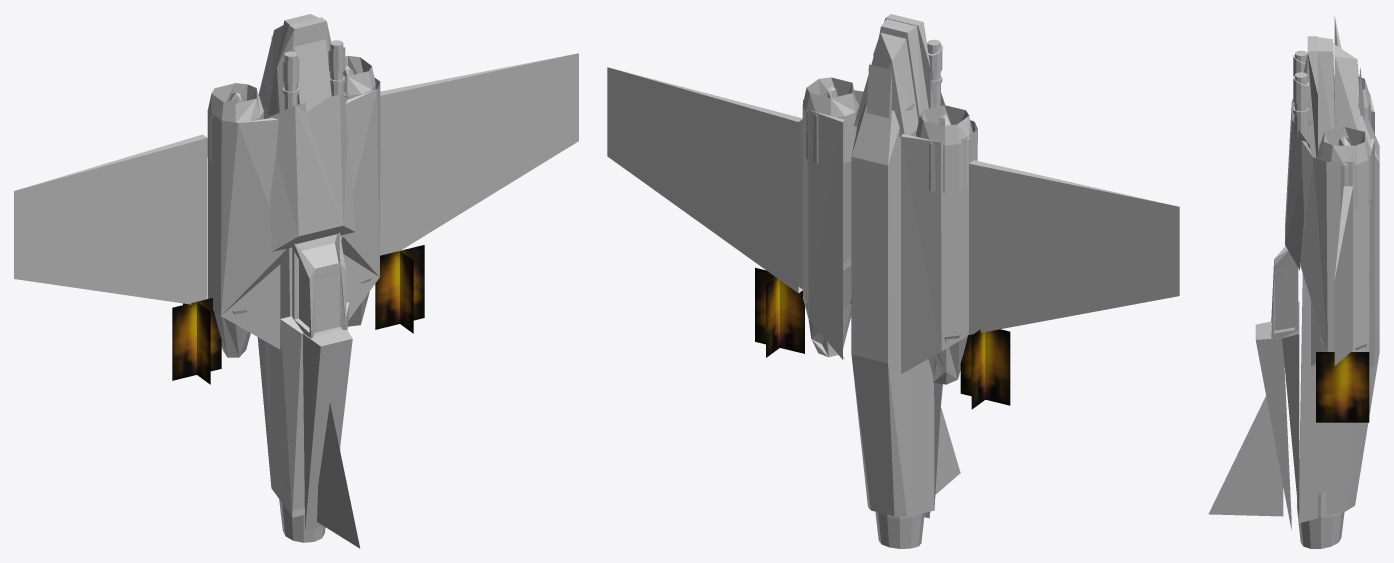
Rendered from thunderboltfighterBoned_wtf.obj.
3 views of the same model, side by side, from view 1: azimuth 30°, elevation 25°; view 2: azimuth 150°, elevation 25°; view 3: azimuth 270°, elevation 25° (orthographic). The views are drawn at different scales.
Visible parts, largest first — view 1: group3, group9, group6, group1, group4, group8, group5, group7; view 2: group3, group9, group1, group2, group4, group5; view 3: group3, group9, group1, group5, group6, group2, group7, group8.
Boxes of the visible parts, x1=… form: group3: x1=14, y1=14, x2=578, y2=548; group9: x1=172, y1=245, x2=424, y2=384; group6: x1=294, y1=243, x2=341, y2=332; group1: x1=207, y1=55, x2=375, y2=122; group4: x1=214, y1=278, x2=371, y2=357; group8: x1=282, y1=47, x2=345, y2=96; group5: x1=279, y1=478, x2=325, y2=542; group7: x1=284, y1=40, x2=343, y2=111; group3: x1=607, y1=14, x2=1179, y2=518; group9: x1=755, y1=267, x2=1010, y2=409; group1: x1=802, y1=77, x2=972, y2=145; group2: x1=802, y1=106, x2=970, y2=192; group4: x1=803, y1=288, x2=968, y2=384; group5: x1=875, y1=488, x2=924, y2=548; group3: x1=1208, y1=16, x2=1379, y2=529; group9: x1=1316, y1=352, x2=1369, y2=422; group1: x1=1317, y1=75, x2=1371, y2=165; group5: x1=1297, y1=493, x2=1344, y2=548; group6: x1=1274, y1=251, x2=1294, y2=333; group2: x1=1317, y1=103, x2=1371, y2=210; group7: x1=1294, y1=50, x2=1307, y2=143; group8: x1=1293, y1=54, x2=1308, y2=115.
Size of the model in its own units: 660 by 574 by 179.
